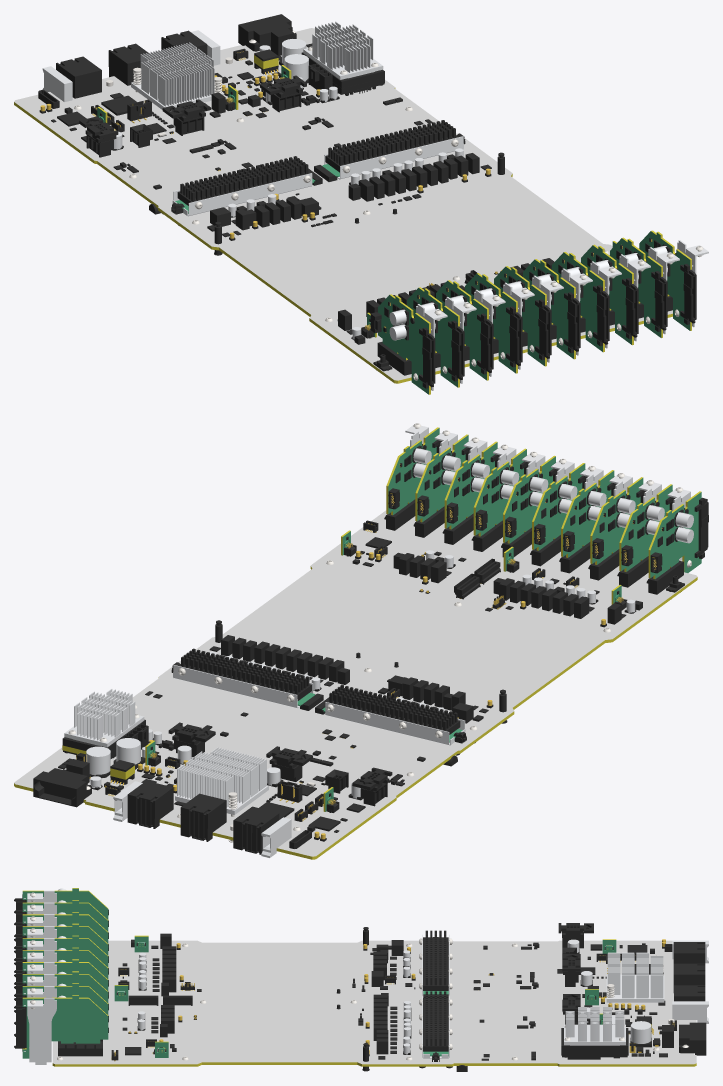
Rendered from cosmo-int-1.glb.
3 views of the same model, one above another, from view 1: azimuth 30°, elevation 25°; view 2: azimuth 150°, elevation 25°; view 3: azimuth 270°, elevation 25° (orthographic). The views are drawn at different scales.
Visible parts, largest first — view 1: PCB.002, Cube.194, Cube.239, Cube.007, Alpha Novatech S089LB14.003, Cosmo_Sharkfin_BOARD.022, OXC991-0000150_sm-SHARKFIN BRACKET, COSMO.035, OXC991-0000150_sm-SHARKFIN BRACKET, COSMO.036, Cosmo_Sharkfin_BOARD.024, Cosmo_Sharkfin_BOARD.029, Cosmo_Sharkfin_BOARD.030, Cosmo_Sharkfin_BOARD.027 (+24 smaller); view 2: PCB.002, Cube.194, Cube.239, Cube.007, Alpha Novatech S089LB14.003, Cosmo_Sharkfin_BOARD.022, Cube.196, Cube.197, OXC991-0000150_sm-SHARKFIN BRACKET, COSMO.035, Cube.198, OXC991-0000150_sm-SHARKFIN BRACKET, COSMO.036, Cosmo_Sharkfin_BOARD.026 (+11 smaller); view 3: PCB.002, Cube.194, Cosmo_Sharkfin_BOARD.026, Cube.239, OXC991-0000150_sm-SHARKFIN BRACKET, COSMO.034, Cube.007, Alpha Novatech S089LB14.003, Cube.195, Cube.198, Cosmo_Sharkfin_BOARD.022, Cosmo_Sharkfin_BOARD.027, Cosmo_Sharkfin_BOARD.028 (+23 smaller).
Part boxes in pixels (box(x1,y1,x2,y2)): PCB.002: box(14, 28, 672, 383); Cube.194: box(131, 42, 224, 109); Cube.239: box(303, 21, 383, 79); Cube.007: box(325, 120, 457, 172); Alpha Novatech S089LB14.003: box(177, 156, 309, 205); Cosmo_Sharkfin_BOARD.022: box(378, 294, 430, 394); OXC991-0000150_sm-SHARKFIN BRACKET, COSMO.035: box(172, 173, 312, 216); OXC991-0000150_sm-SHARKFIN BRACKET, COSMO.036: box(324, 136, 463, 179); Cosmo_Sharkfin_BOARD.024: box(494, 266, 546, 366); Cosmo_Sharkfin_BOARD.029: box(523, 259, 575, 359); Cosmo_Sharkfin_BOARD.030: box(552, 252, 604, 352); Cosmo_Sharkfin_BOARD.027: box(407, 287, 459, 387); PCB.002: box(14, 510, 697, 859); Cube.194: box(175, 747, 268, 814); Cube.239: box(64, 689, 144, 747); Cube.007: box(179, 648, 311, 700); Alpha Novatech S089LB14.003: box(328, 684, 460, 734); Cosmo_Sharkfin_BOARD.022: box(648, 491, 701, 579); Cube.196: box(180, 793, 226, 841); Cube.197: box(127, 781, 173, 828); OXC991-0000150_sm-SHARKFIN BRACKET, COSMO.035: box(325, 702, 465, 745); Cube.198: box(33, 768, 91, 807); OXC991-0000150_sm-SHARKFIN BRACKET, COSMO.036: box(173, 665, 313, 708); Cosmo_Sharkfin_BOARD.026: box(386, 427, 439, 515); PCB.002: box(52, 940, 696, 1066); Cube.194: box(606, 952, 664, 1002); Cosmo_Sharkfin_BOARD.026: box(22, 995, 108, 1058); Cube.239: box(564, 1007, 625, 1045); OXC991-0000150_sm-SHARKFIN BRACKET, COSMO.034: box(27, 998, 56, 1064); Cube.007: box(423, 991, 448, 1051); Alpha Novatech S089LB14.003: box(423, 930, 448, 990); Cube.195: box(561, 1028, 628, 1059); Cube.198: box(679, 1022, 706, 1055); Cosmo_Sharkfin_BOARD.022: box(22, 888, 108, 919); Cosmo_Sharkfin_BOARD.027: box(22, 900, 108, 931); Cosmo_Sharkfin_BOARD.028: box(22, 923, 108, 955).
Bounding box in the file's own units: 0.254 × 0.0667 × 0.6043.
